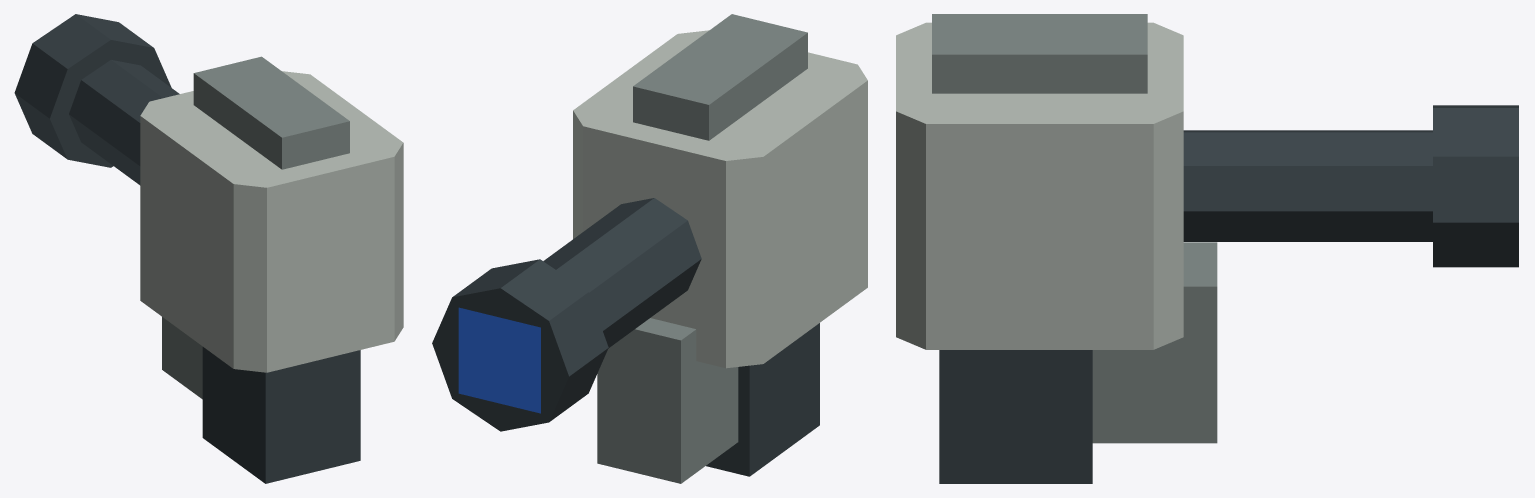
The picture shows the model from 3 angles, left to right: view 1: azimuth 30°, elevation 25°; view 2: azimuth 150°, elevation 25°; view 3: azimuth 270°, elevation 25°; orthographic projection. The views are drawn at different scales.
Parts seen in each view (by area): view 1: mount; view 2: mount; view 3: mount.
Part boxes in pixels (x1,y1,x2,y2): mount: (14,14,403,483); mount: (432,14,867,483); mount: (896,14,1518,483).
Bounding box in the file's own units: 4 × 7.76 × 10.43.
